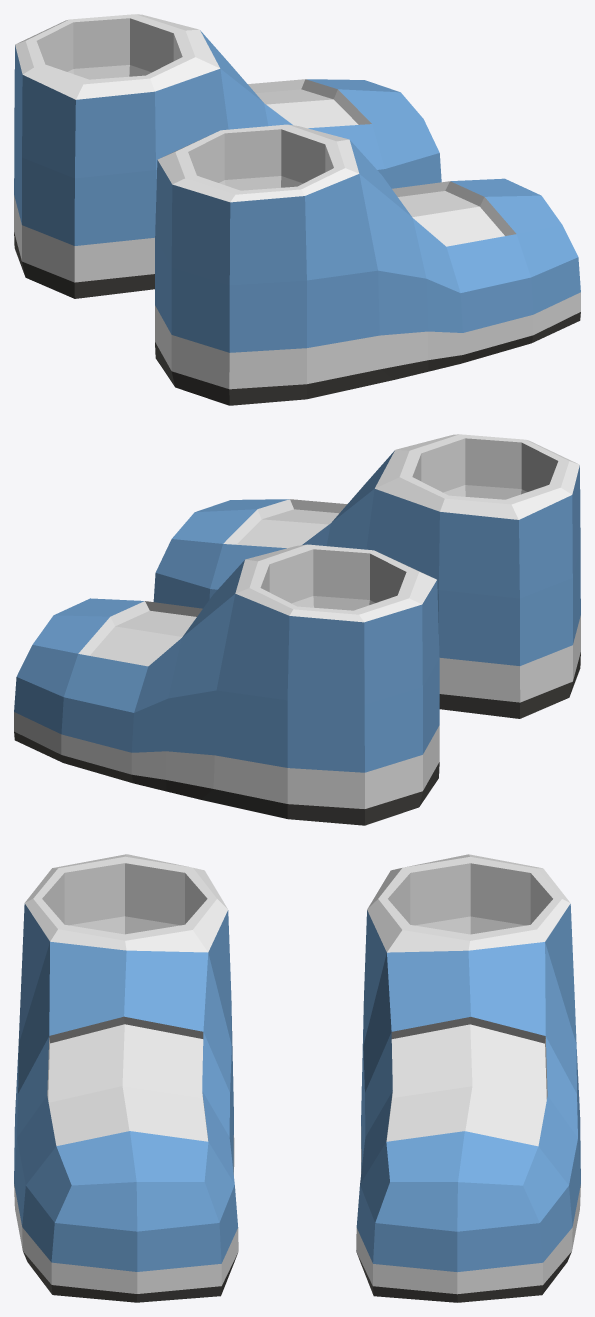
File: shoes.glb
3 renders of one model, top to bottom at view 1: azimuth 30°, elevation 25°; view 2: azimuth 150°, elevation 25°; view 3: azimuth 270°, elevation 25°, orthographic. The views are drawn at different scales.
Parts seen in each view (by area): view 1: Shoes; view 2: Shoes; view 3: Shoes.
Boxes of the visible parts, left/top/right/bottom form: Shoes: left=14, top=14, right=580, bottom=405; Shoes: left=14, top=434, right=580, bottom=825; Shoes: left=14, top=854, right=580, bottom=1302.
Size of the model in its own units: 0.2306 by 0.1167 by 0.253.
